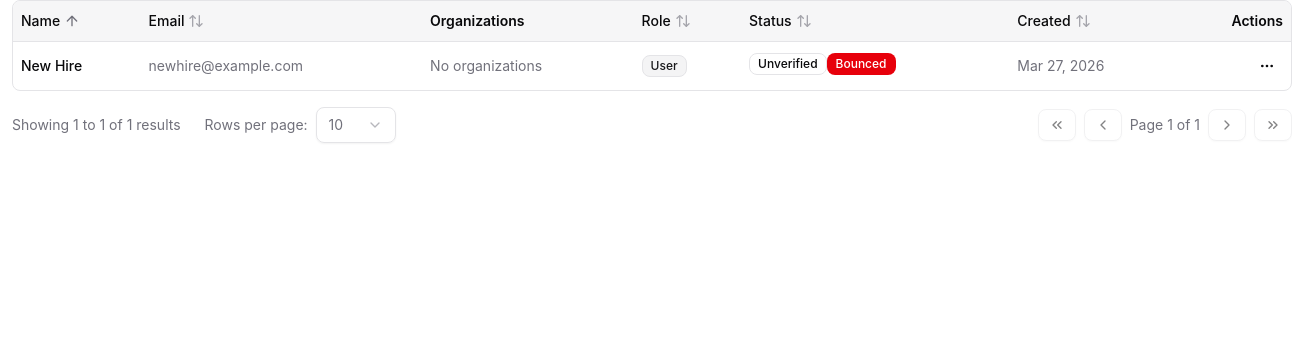
UserTable › shows resend onboarding email for retryable onboarding states
Click the button named "More actions" in the row of "New Hire".
click(1267, 66)  # box [1251,50,1283,82]
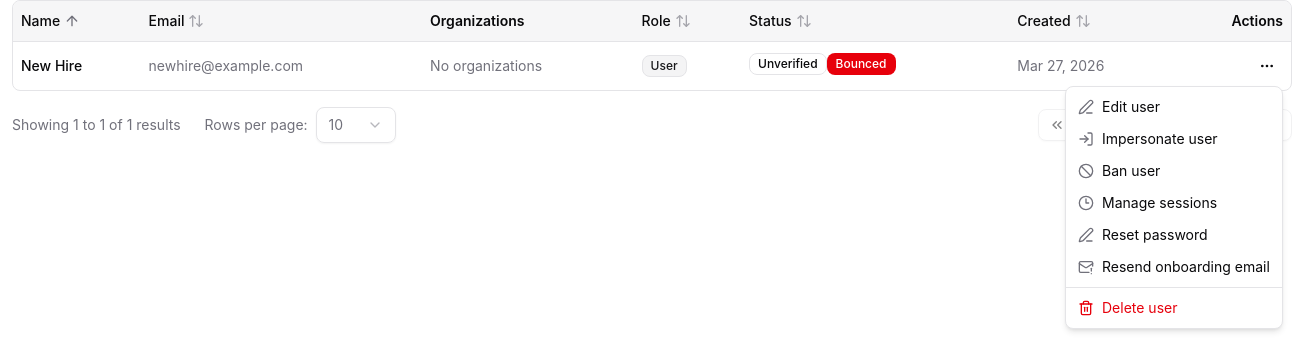
Expected: the menu item "Resend onboarding email" is shown, [1078,258,1270,275]
